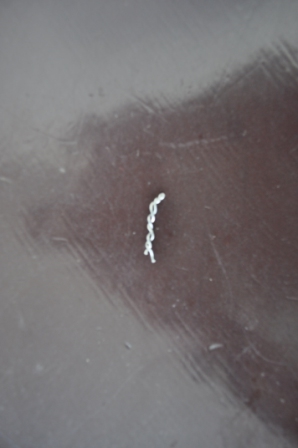METAL WIRE: (142, 188, 166, 267)
